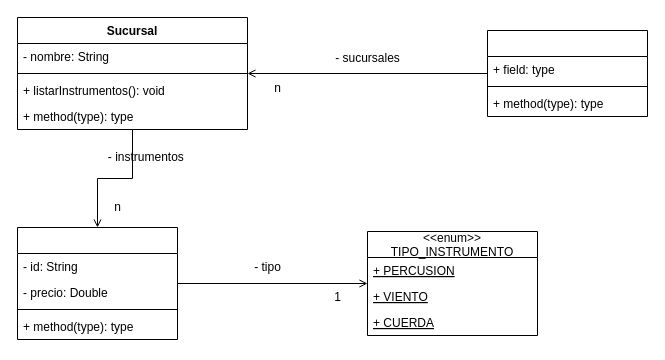
Some shapes in this 665 by 360 pixel diagram are drawn without their labels. Each missing label, with the box of its shape:
Fabrica: (486, 30, 648, 116)
Instrumento: (16, 226, 178, 340)
